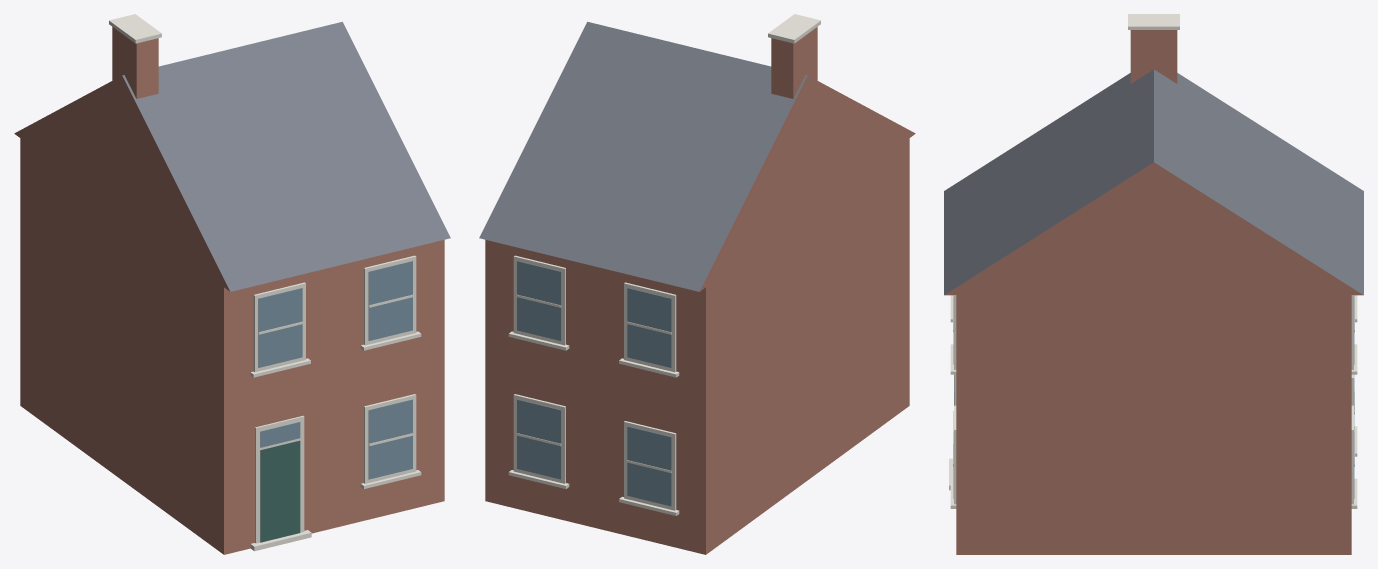
File: TerracedHouse_001.fbx
The picture shows the model from 3 angles, left to right: view 1: azimuth 30°, elevation 25°; view 2: azimuth 150°, elevation 25°; view 3: azimuth 270°, elevation 25°; orthographic projection. The views are drawn at different scales.
Parts seen in each view (by area): view 1: TerracedHouse_001; view 2: TerracedHouse_001; view 3: TerracedHouse_001.
Boxes of the visible parts, left/top/right/bottom form: TerracedHouse_001: left=14, top=14, right=450, bottom=554; TerracedHouse_001: left=479, top=14, right=915, bottom=554; TerracedHouse_001: left=944, top=14, right=1363, bottom=554.
Size of the model in its own units: 5 by 9.76 by 8.5.
